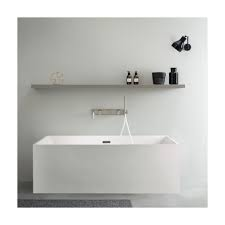bathub: (33, 132, 186, 196)
